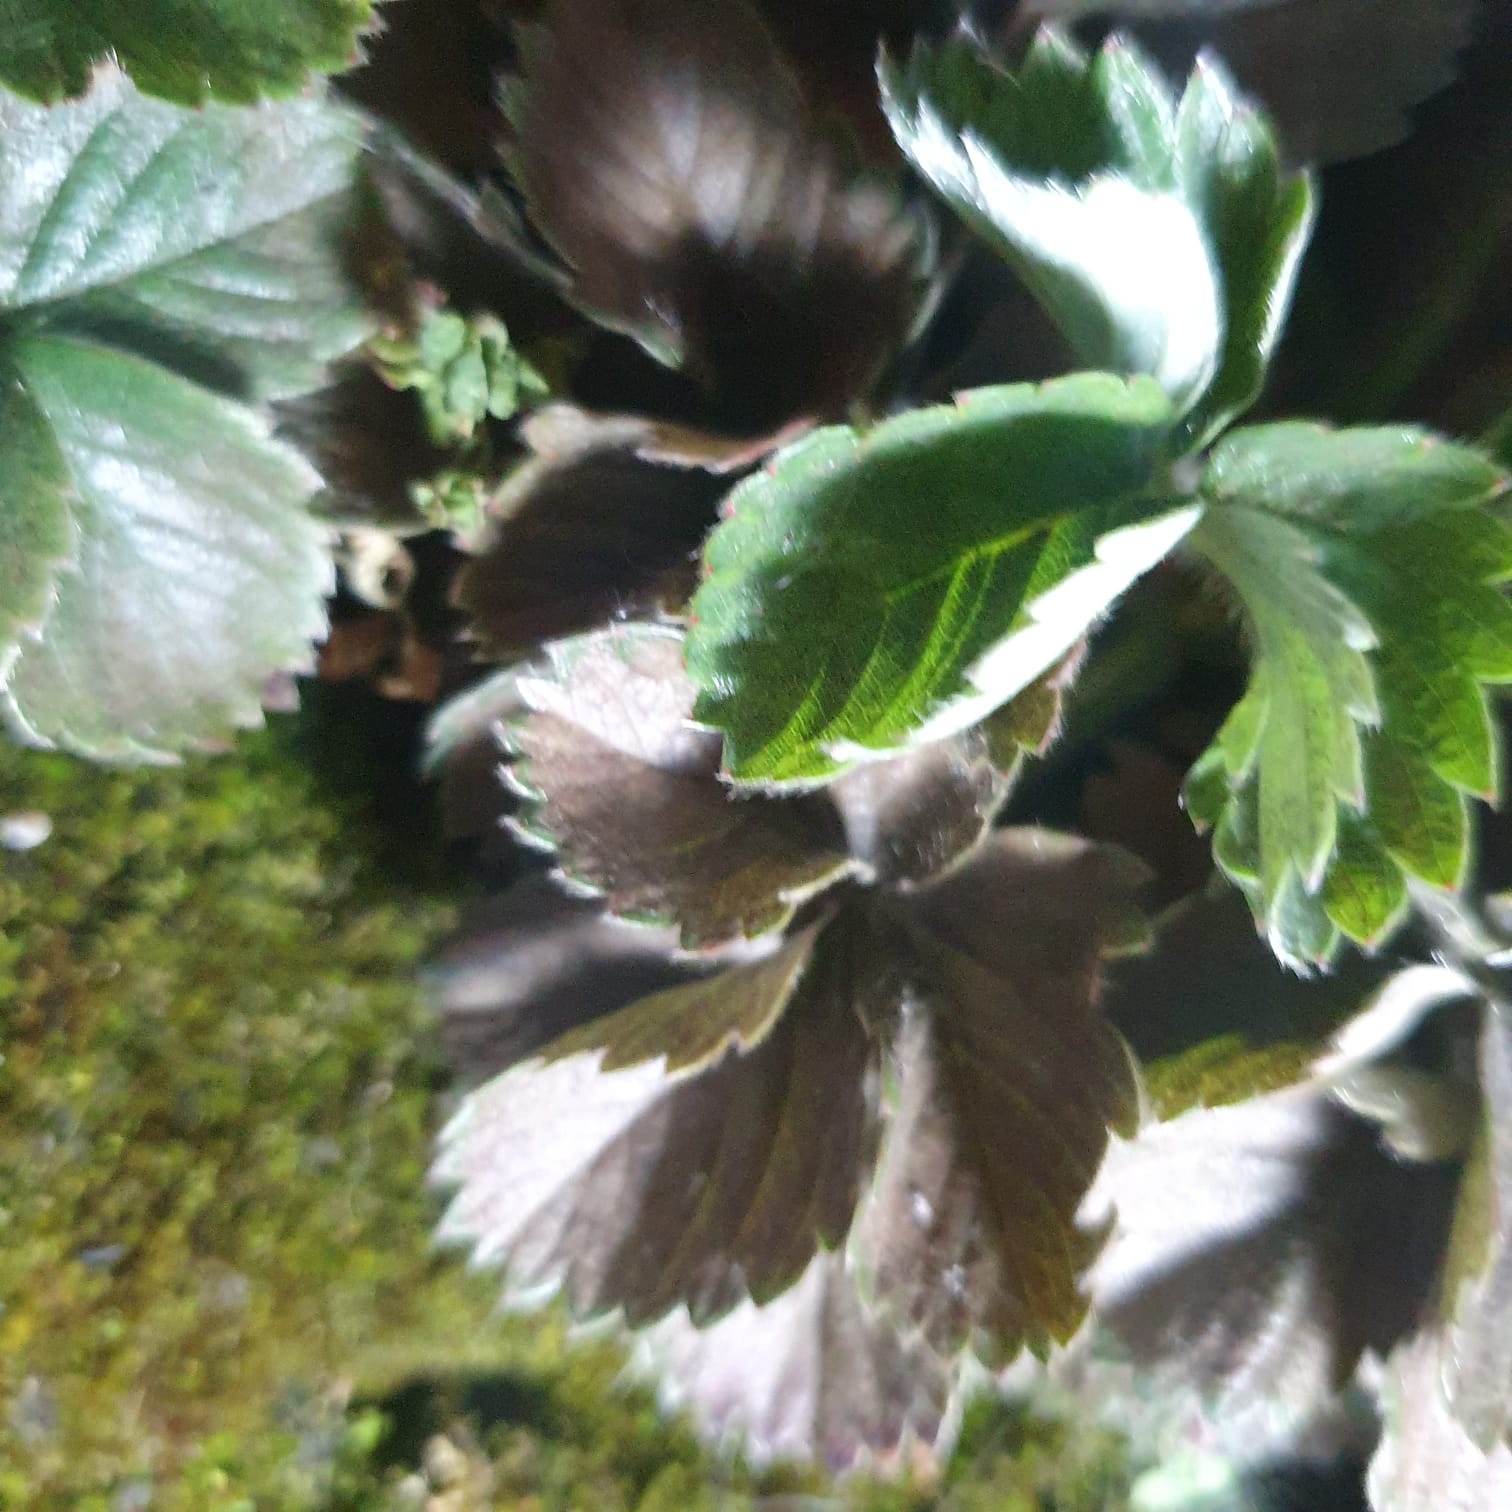tizon_temprano: (454, 629, 1095, 1473)
